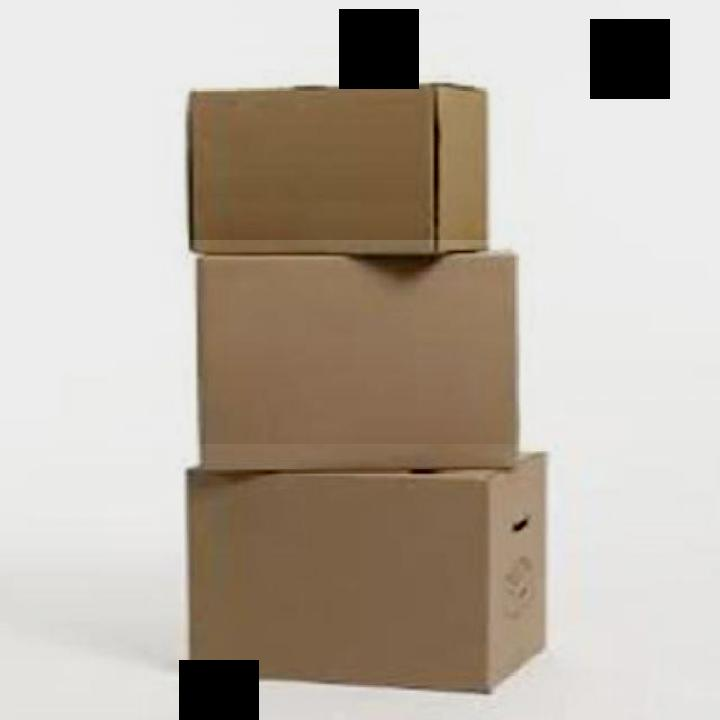box: (178, 444, 556, 698), (190, 240, 524, 478), (180, 76, 495, 264)
